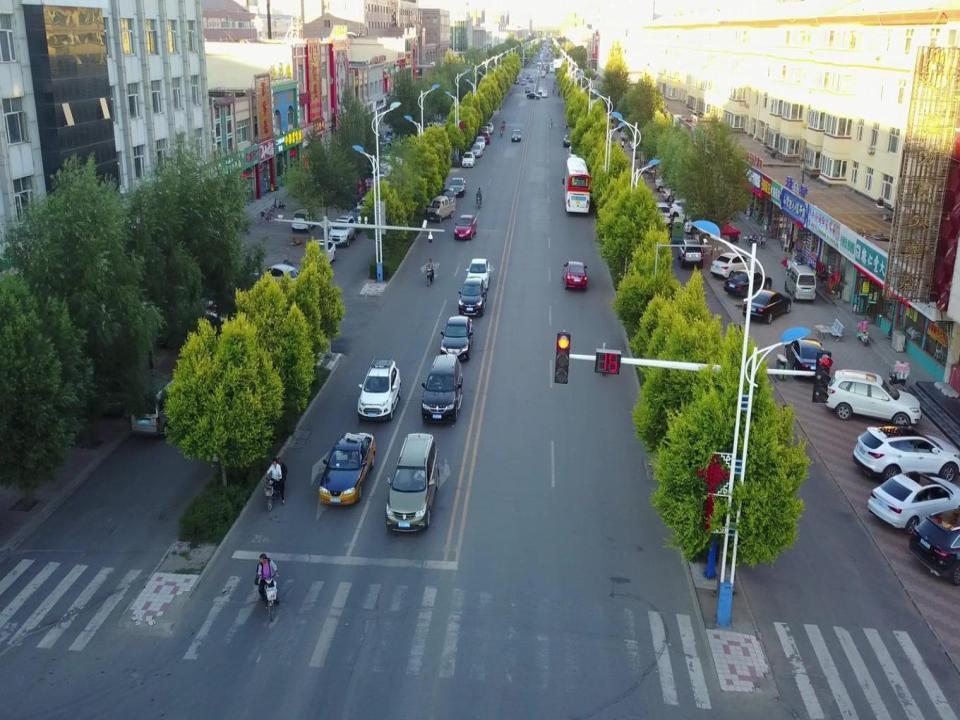bus: (562, 159, 590, 214), (549, 62, 555, 74)
car: (854, 424, 959, 485), (870, 468, 960, 534), (824, 366, 919, 426), (386, 434, 438, 532), (318, 430, 375, 506), (908, 508, 960, 584), (421, 352, 461, 424), (358, 356, 400, 420), (786, 337, 827, 378), (743, 290, 792, 324), (440, 316, 474, 360), (185, 298, 227, 330), (725, 269, 771, 296), (711, 251, 755, 278), (458, 278, 486, 316), (262, 263, 300, 290), (306, 239, 336, 273), (328, 215, 356, 248), (562, 261, 589, 291), (676, 239, 702, 267), (467, 258, 491, 287), (454, 214, 476, 241), (662, 182, 690, 203), (685, 216, 717, 234), (292, 210, 318, 232), (672, 199, 698, 219), (347, 205, 365, 232), (356, 194, 375, 217), (654, 201, 670, 228), (629, 134, 651, 151), (449, 176, 466, 197), (442, 187, 456, 209), (461, 150, 475, 166), (561, 133, 575, 145), (471, 144, 482, 157), (475, 136, 485, 150), (511, 129, 521, 142), (484, 122, 494, 134), (527, 91, 539, 100), (481, 134, 490, 146), (541, 90, 548, 98), (528, 76, 534, 83), (515, 78, 520, 85), (525, 86, 530, 92), (521, 79, 525, 85), (538, 85, 542, 91), (527, 74, 530, 79)
truck: (427, 197, 456, 222)
van: (130, 376, 186, 436), (784, 264, 816, 303), (654, 171, 679, 192), (568, 146, 580, 162), (480, 125, 491, 139)
